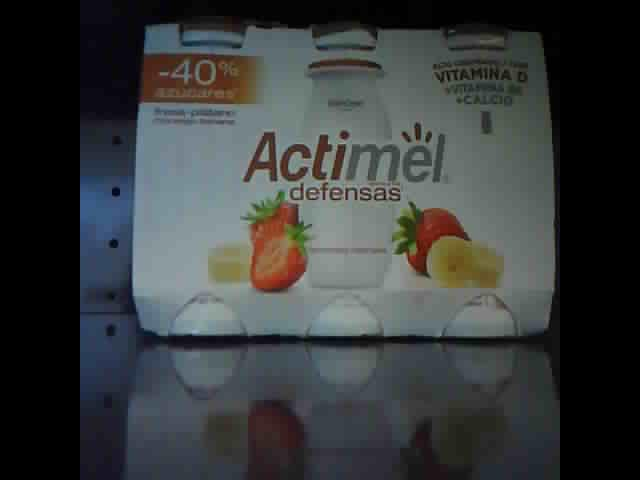actimel: (132, 16, 555, 342)
